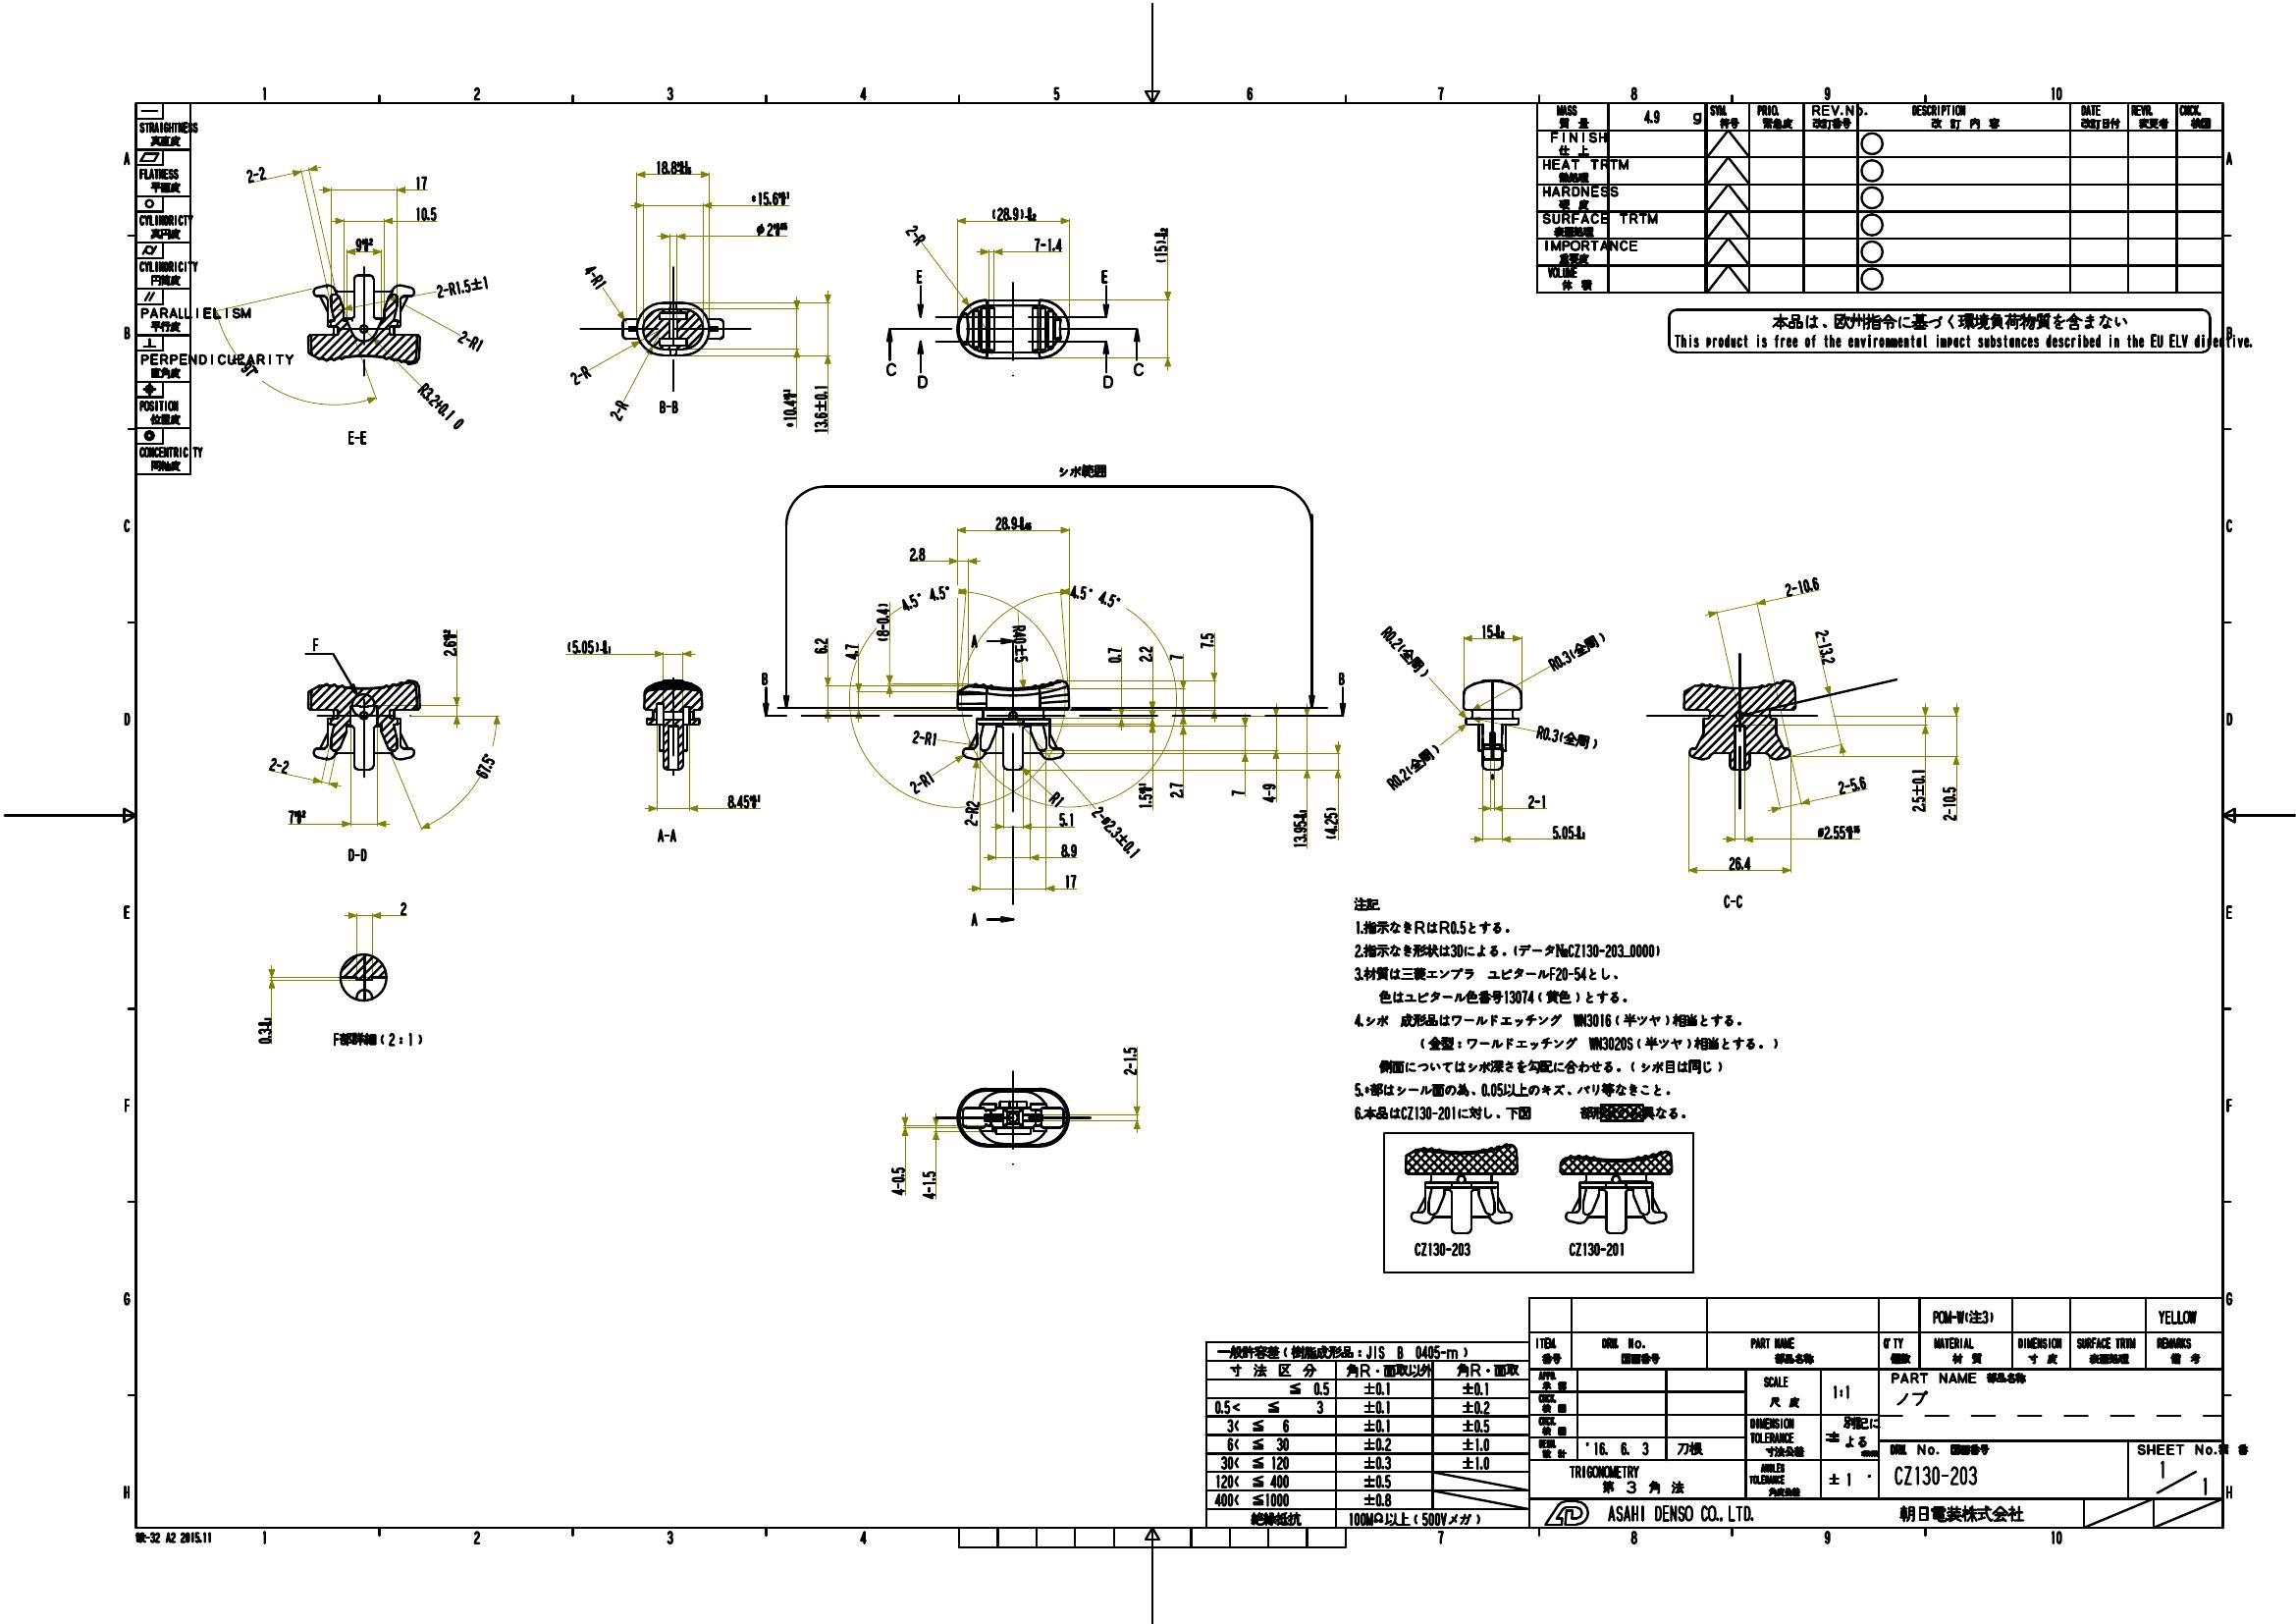anntotation_text: (1347, 895, 1783, 1127), (1667, 308, 2252, 355), (330, 1028, 425, 1053), (130, 1529, 214, 1547), (1563, 1241, 1625, 1260), (1054, 462, 1110, 483), (1414, 1239, 1474, 1258), (341, 425, 371, 448), (653, 824, 680, 847), (1718, 891, 1748, 910), (655, 397, 680, 417), (344, 845, 369, 863), (882, 359, 901, 380), (1335, 666, 1349, 691), (1130, 359, 1145, 380), (913, 371, 929, 392), (912, 265, 926, 288), (1098, 265, 1112, 288), (966, 909, 980, 932), (1100, 373, 1116, 392), (966, 631, 980, 652), (307, 634, 320, 656), (757, 670, 769, 689)
dimension_text: (1542, 642, 1613, 661), (1374, 642, 1440, 661), (1379, 756, 1446, 775), (1066, 584, 1123, 606), (808, 380, 829, 434), (1534, 729, 1599, 747), (1079, 824, 1151, 840), (409, 397, 471, 415), (562, 634, 613, 656), (899, 587, 954, 606), (434, 278, 492, 295), (1906, 766, 1927, 814), (987, 204, 1040, 221), (1149, 225, 1170, 267), (873, 599, 892, 645), (1289, 807, 1309, 851), (1938, 780, 1957, 823), (991, 513, 1033, 533), (748, 186, 791, 206), (1546, 821, 1586, 840), (653, 156, 694, 176), (917, 1167, 938, 1204), (1012, 622, 1029, 666), (954, 801, 987, 824), (724, 791, 762, 810), (1804, 638, 1846, 656), (1117, 1044, 1138, 1079), (1783, 578, 1823, 596), (453, 332, 487, 353), (780, 387, 796, 431), (1813, 824, 1862, 838), (437, 624, 457, 659), (1029, 234, 1065, 253), (1832, 777, 1869, 794), (1321, 805, 1339, 842), (906, 772, 936, 793), (1135, 779, 1156, 808), (887, 1164, 905, 1199), (755, 220, 791, 237), (580, 267, 608, 288), (566, 366, 594, 387), (255, 1014, 271, 1048), (264, 758, 293, 775), (1196, 626, 1216, 652), (471, 758, 497, 777), (242, 165, 269, 185), (1725, 856, 1753, 874), (1477, 622, 1505, 640), (1258, 780, 1277, 805), (912, 729, 938, 747), (812, 633, 829, 659), (903, 227, 929, 244), (606, 401, 632, 418), (411, 204, 437, 221), (237, 357, 258, 378), (1054, 808, 1077, 828), (350, 236, 374, 253), (1059, 872, 1080, 891), (1135, 643, 1154, 664), (1103, 643, 1123, 664), (905, 543, 926, 562), (285, 807, 306, 826), (1525, 793, 1548, 810), (1058, 840, 1080, 858), (841, 640, 859, 663), (1166, 780, 1184, 801), (1165, 649, 1184, 664), (1047, 791, 1063, 808), (1226, 786, 1247, 798), (415, 174, 427, 190), (397, 900, 406, 917)
object: (954, 677, 1072, 773), (1400, 1142, 1521, 1236), (1681, 678, 1799, 773), (306, 272, 422, 366), (306, 680, 422, 773), (1562, 1149, 1674, 1236), (956, 297, 1072, 362), (956, 1086, 1070, 1149), (1460, 677, 1523, 773), (620, 301, 726, 357), (641, 678, 704, 772), (337, 953, 388, 1002)
title_block: (1525, 1295, 2226, 1531), (1534, 100, 2226, 295), (1203, 1339, 1534, 1531), (135, 102, 193, 478)
